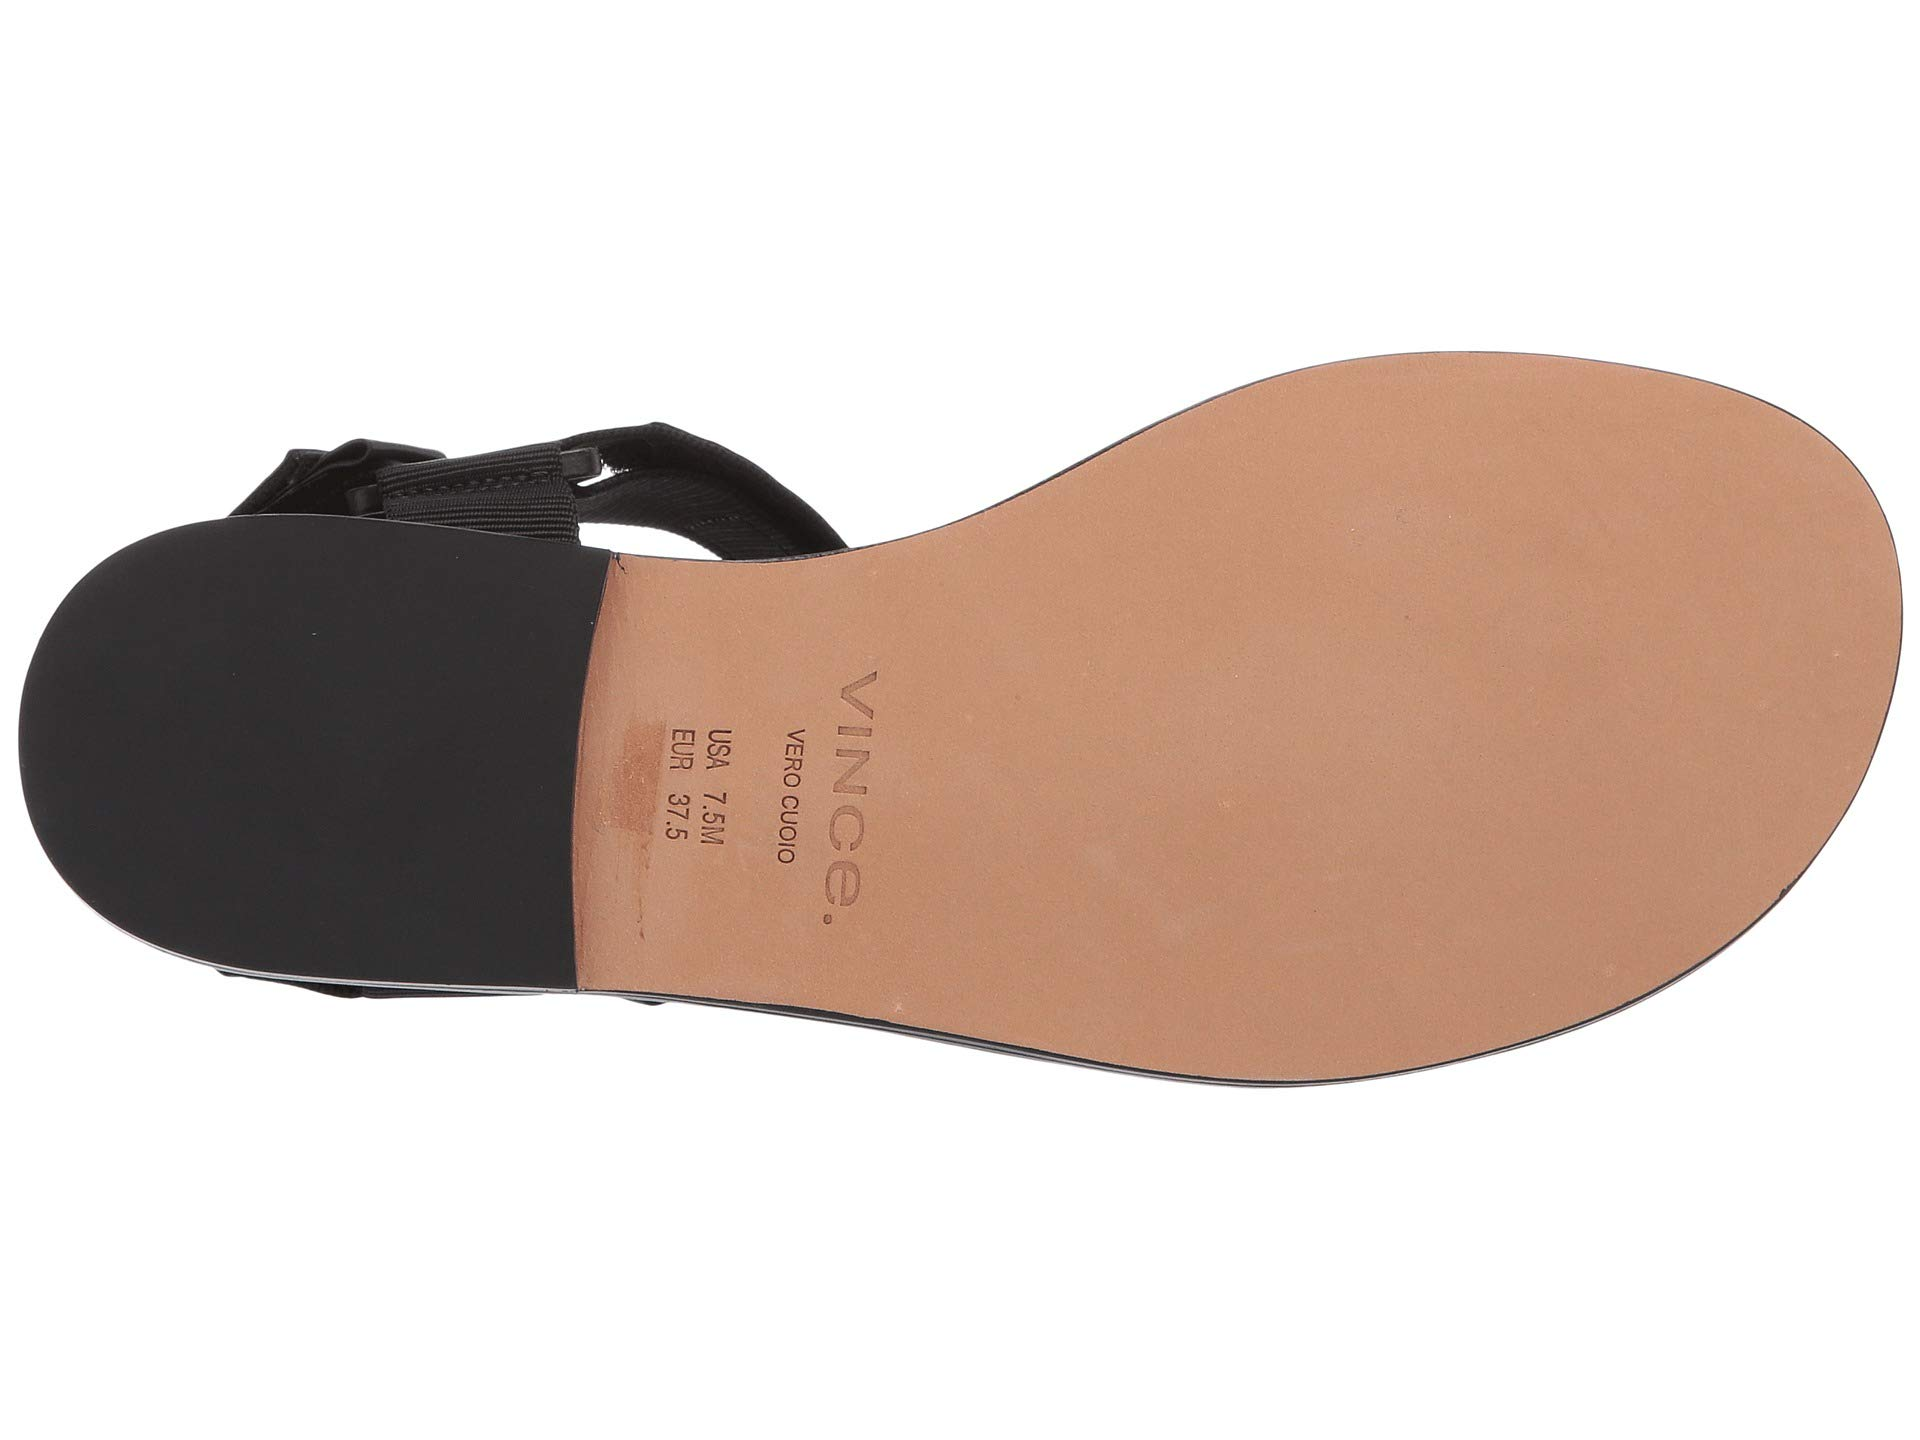circle: (624, 652, 913, 948)
quad: (624, 652, 913, 948)
text: (624, 652, 913, 948)
